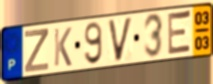3: (142, 11, 164, 61)
9: (83, 21, 104, 67)
E: (166, 9, 192, 58)
K: (53, 26, 73, 68)
V: (106, 15, 134, 64)
Z: (23, 28, 50, 74)
